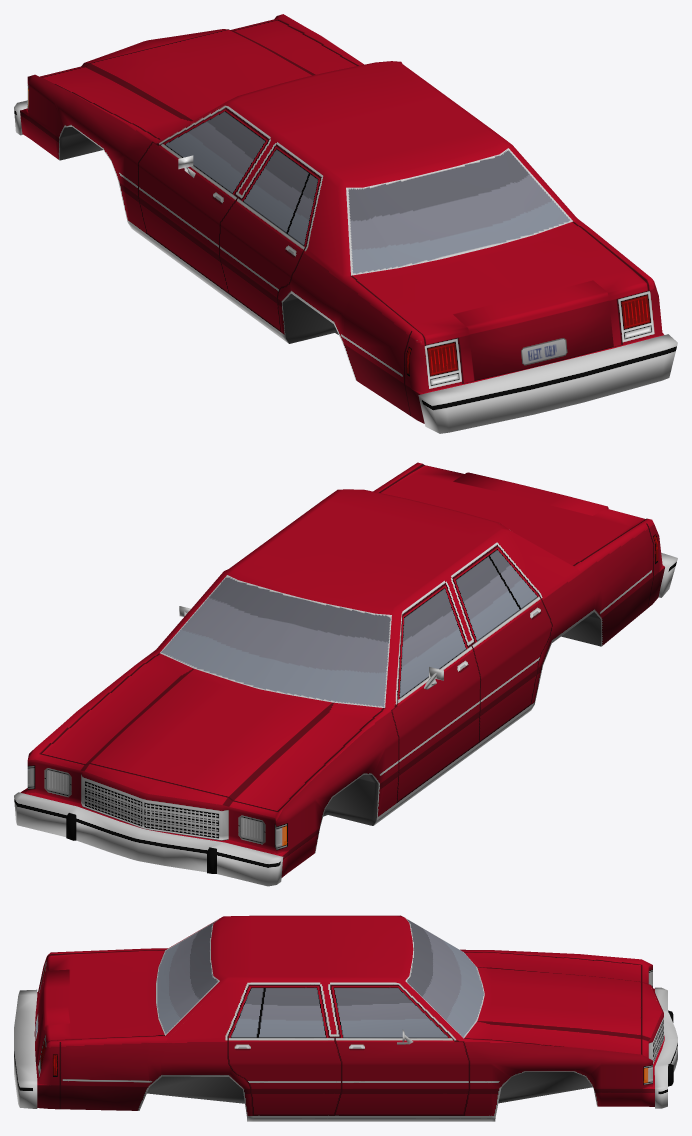
File: 80crownvictorialtd.fbx
3 renders of one model, top to bottom at view 1: azimuth 30°, elevation 25°; view 2: azimuth 150°, elevation 25°; view 3: azimuth 270°, elevation 25°, orthographic. The views are drawn at different scales.
Parts seen in each view (by area): view 1: 80crownvictoria; view 2: 80crownvictoria; view 3: 80crownvictoria.
Boxes of the visible parts, <box> form: 80crownvictoria: <box>14,14,677,433</box>; 80crownvictoria: <box>14,462,677,886</box>; 80crownvictoria: <box>14,915,677,1121</box>.
Bounding box in the file's own units: 1.98 × 1.16 × 5.47.
